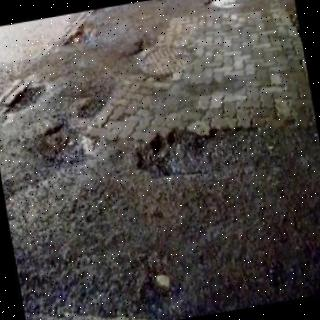pothole: (137, 124, 316, 177), (27, 124, 100, 167), (4, 81, 45, 114), (64, 23, 100, 45), (127, 38, 153, 66), (77, 98, 105, 119), (210, 0, 240, 9)
